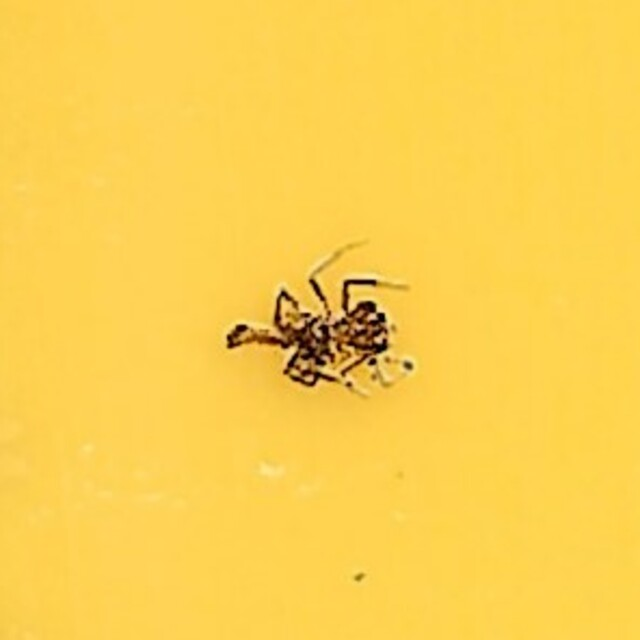Araneae: (216, 237, 424, 403)
